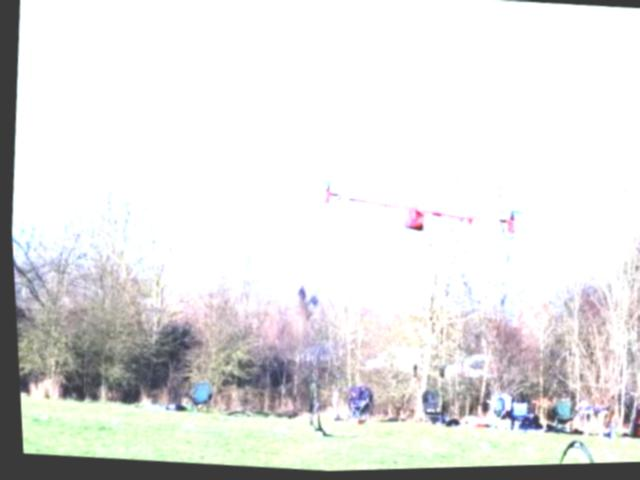uav: (307, 170, 529, 254)
